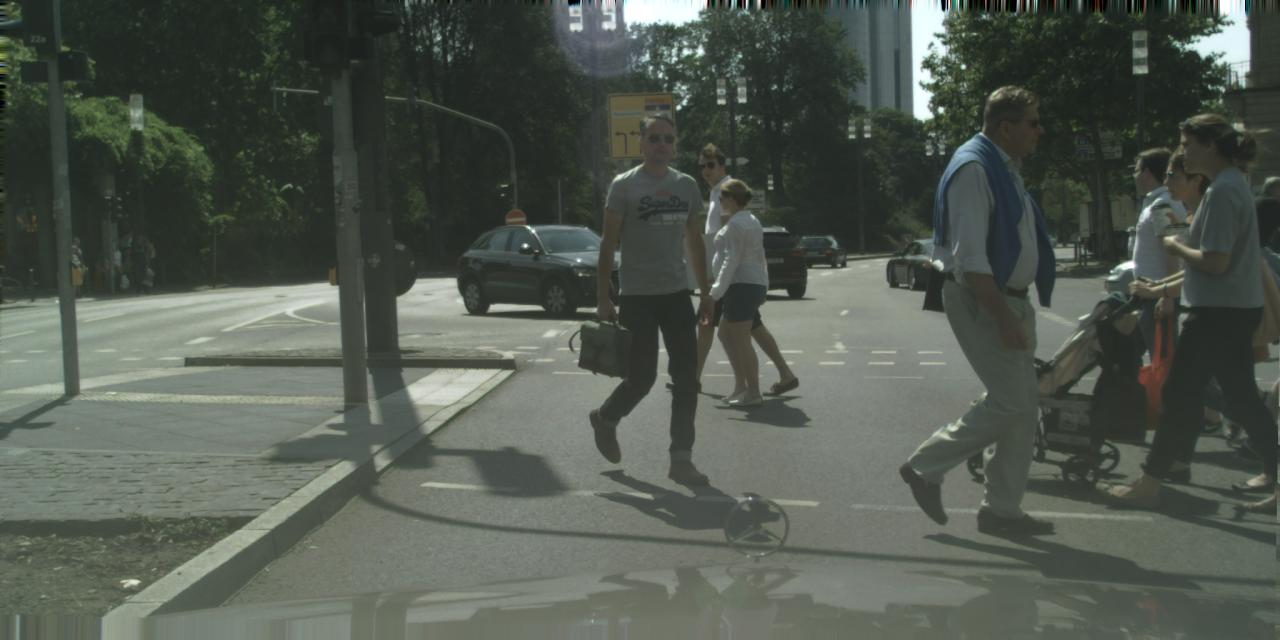ped: (896, 85, 1076, 528), (1126, 113, 1279, 499), (578, 110, 726, 471), (1137, 149, 1275, 485), (1094, 147, 1214, 442), (667, 142, 772, 396), (693, 178, 786, 406), (1236, 175, 1278, 325), (117, 229, 143, 294), (64, 238, 88, 298), (128, 236, 151, 293), (1124, 225, 1146, 281), (63, 244, 84, 297), (109, 244, 128, 292), (90, 262, 102, 292)
